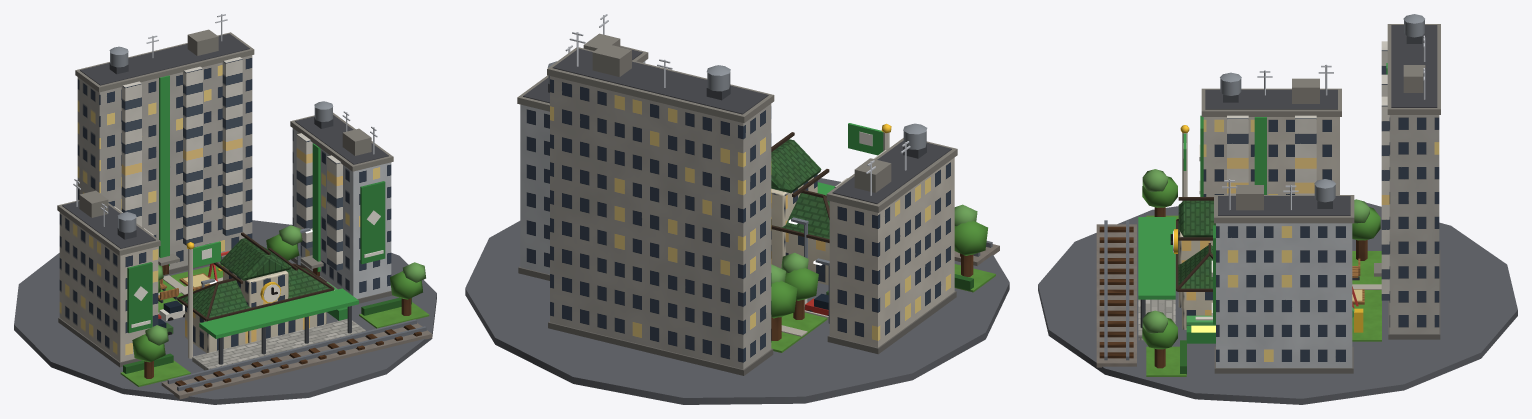
Rendered from city_dl6_green.glb.
3 views of the same model, side by side, from view 1: azimuth 30°, elevation 25°; view 2: azimuth 150°, elevation 25°; view 3: azimuth 270°, elevation 25° (orthographic). The views are drawn at different scales.
Parts seen in each view (by area): view 1: city_dl6_green; view 2: city_dl6_green; view 3: city_dl6_green.
Boxes of the visible parts, x1,y1,x2,y2 form: city_dl6_green: [14, 14, 436, 404]; city_dl6_green: [465, 14, 1009, 404]; city_dl6_green: [1038, 14, 1517, 404].
Bounding box in the file's own units: 1.55 × 0.952 × 1.55.
Materials: 3 (1 with a texture image).
